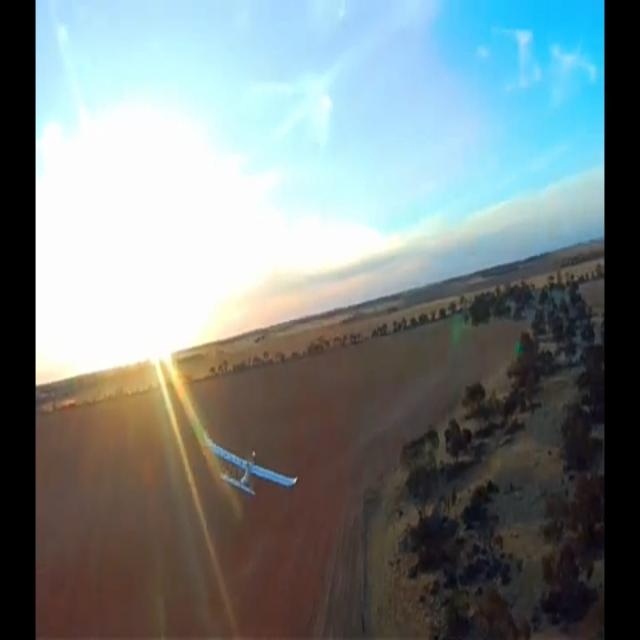iha: (234, 460, 265, 465)
